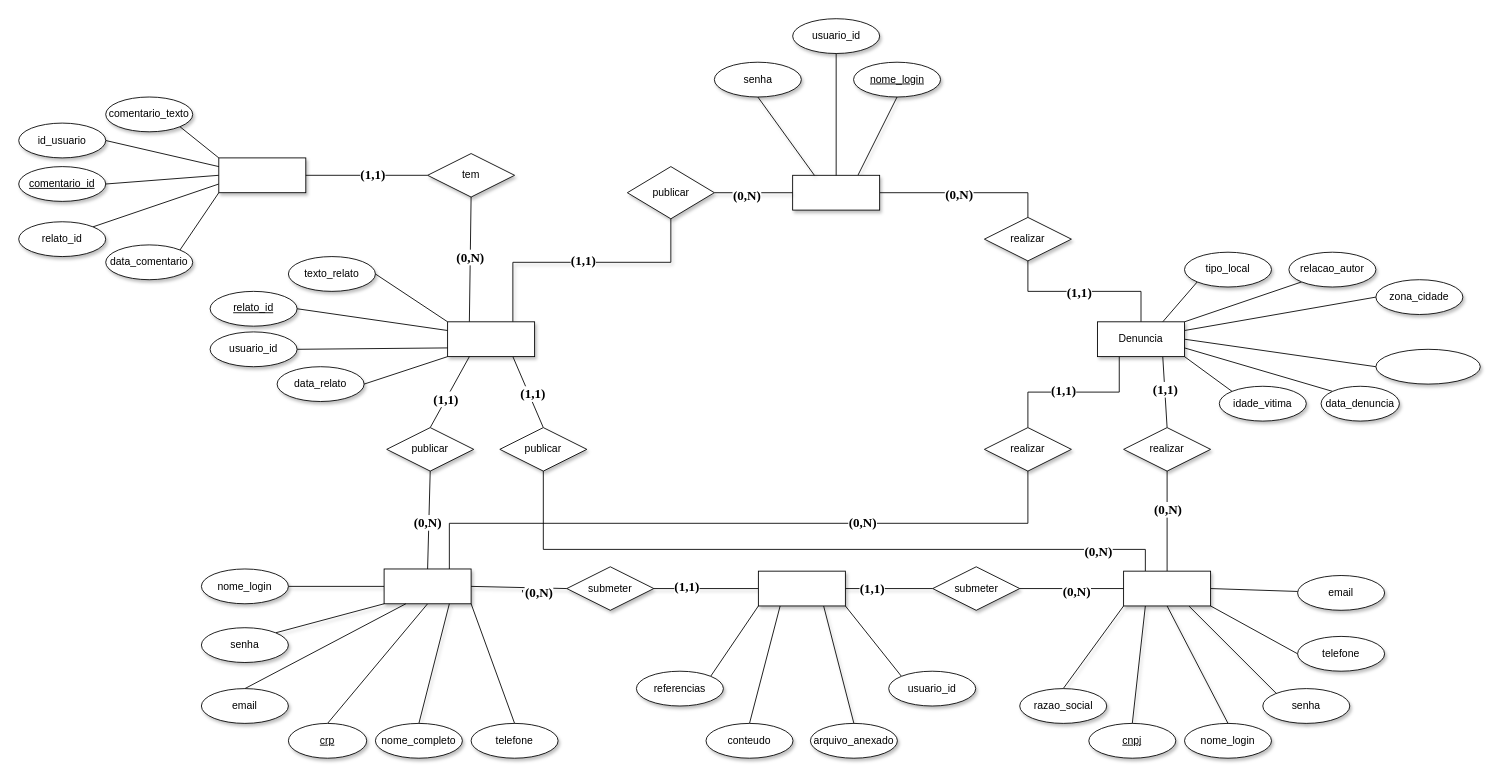
This 1501x780 diagram has some shape labels left out. Here are the shapes that lost their labels. From the top down, the centre of each, then its label:
At (x=262, y=176): "Comentario".
At (x=836, y=193): "UsuarioAnonimo".
At (x=491, y=340): "Relato".
At (x=1429, y=367): "descricao_denuncia".
At (x=428, y=587): "Profissional".
At (x=802, y=589): "Material".
At (x=1167, y=589): "ONG".
